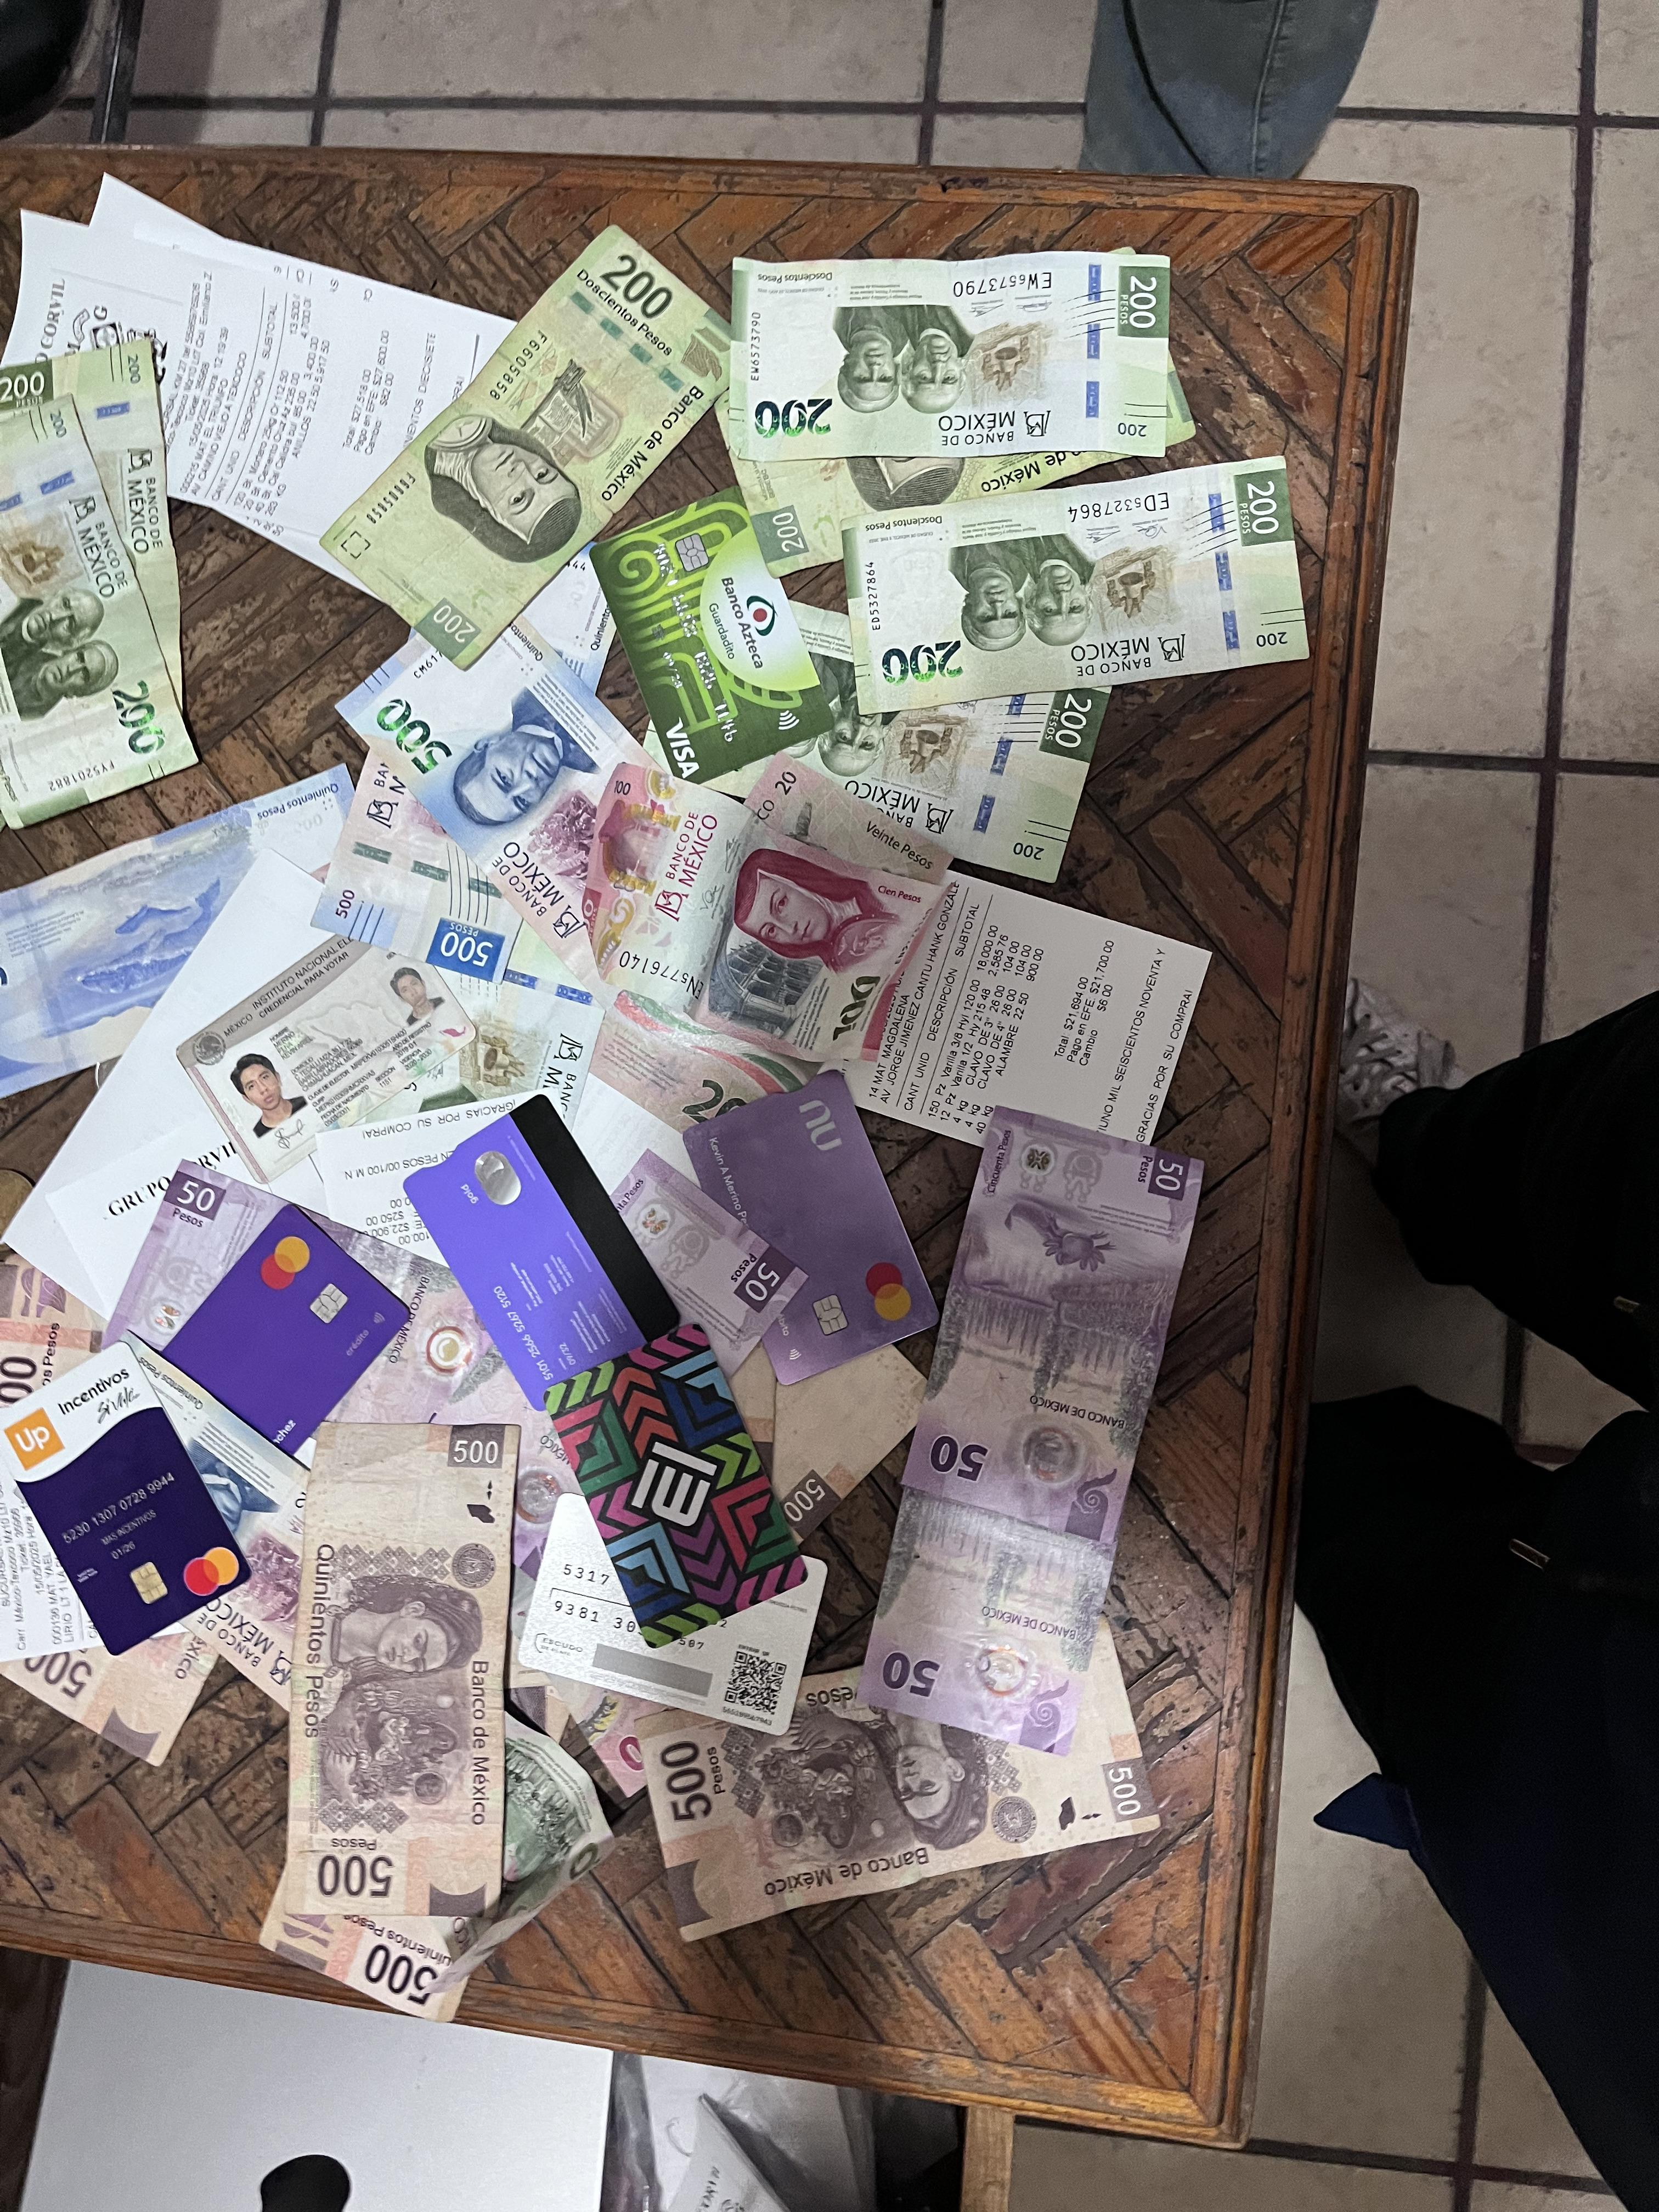100: (573, 759, 974, 1073)
20: (568, 772, 955, 1143), (413, 1702, 627, 1977)
200: (315, 219, 748, 671), (620, 601, 1117, 888), (690, 320, 1213, 582), (833, 448, 1307, 719), (721, 251, 1190, 467), (0, 336, 200, 829)
50: (887, 1087, 1209, 1548), (96, 1155, 525, 1460), (861, 1484, 1117, 1764), (591, 1144, 803, 1390)
500: (631, 1601, 1159, 1956), (277, 1411, 519, 1923), (240, 1867, 477, 2045), (0, 1590, 232, 1771), (0, 1244, 106, 1437)
500 nuevo: (0, 758, 411, 1130), (333, 604, 711, 991), (307, 542, 627, 986), (82, 1329, 345, 1714)
